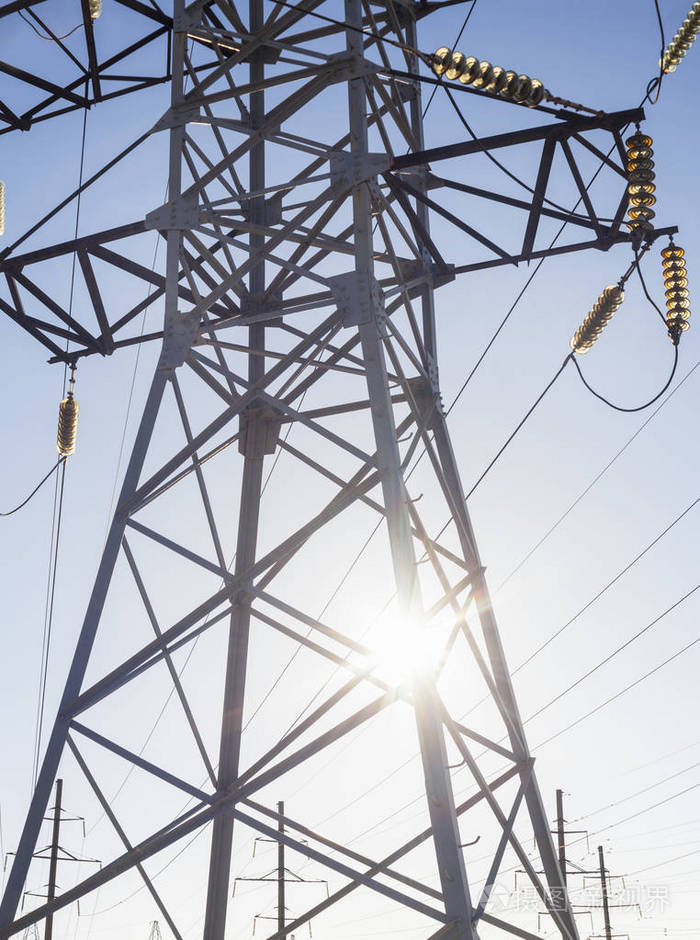insulator: (430, 48, 546, 106), (570, 288, 624, 357), (626, 132, 660, 233), (656, 8, 700, 74), (660, 245, 688, 334), (55, 400, 81, 457)
